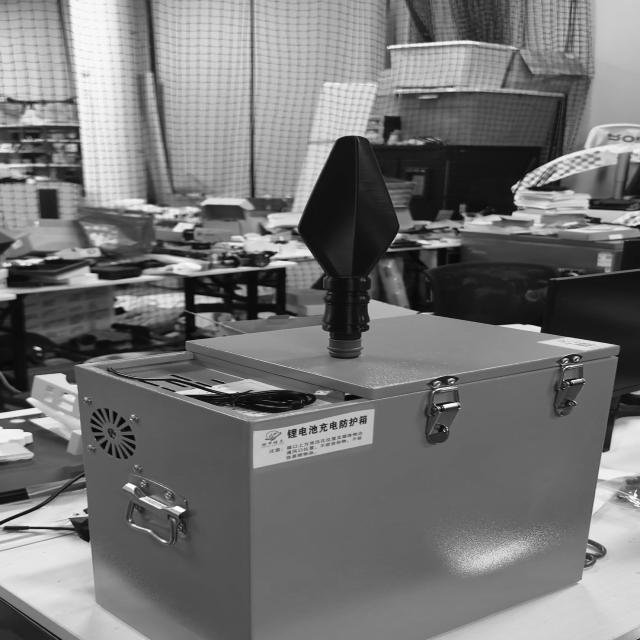base: (326, 336, 364, 358)
